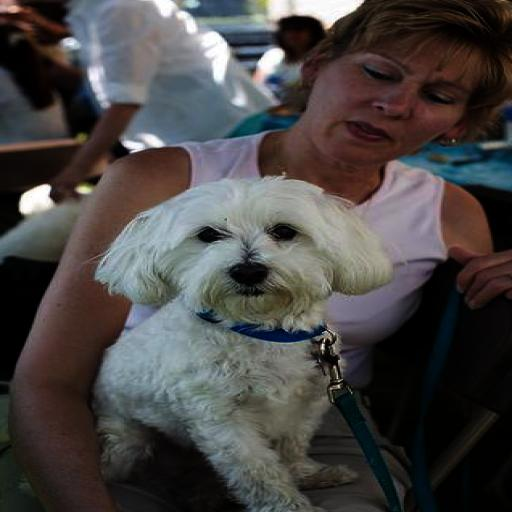dog_face: (104, 171, 389, 314)
